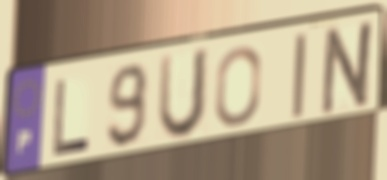9: (104, 61, 151, 151)
I: (290, 29, 309, 123)
L: (51, 76, 93, 159)
N: (318, 16, 379, 119)
O: (213, 43, 264, 130)
U: (155, 44, 213, 143)
